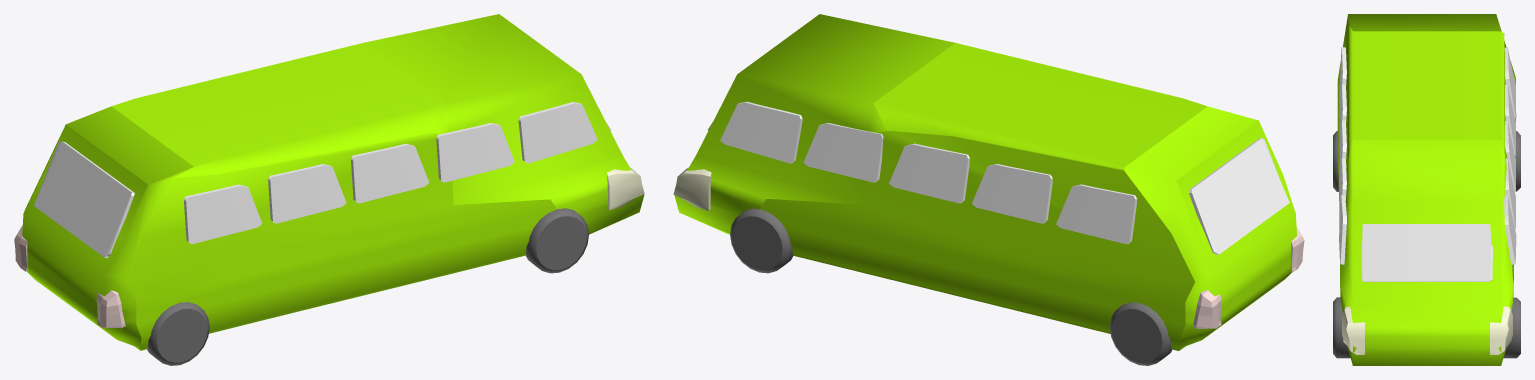
File: CarroVerde.fbx
3 renders of one model, left to right at view 1: azimuth 30°, elevation 25°; view 2: azimuth 150°, elevation 25°; view 3: azimuth 270°, elevation 25°, orthographic. The views are drawn at different scales.
Visible parts, largest first — view 1: pCube1, pCube10, pCube8, pCube13, pCube14, pCube12, pasted__pCube8, pCylinder1, pCylinder2, pCube11, pCube9; view 2: pCube1, pCube10, pasted__pasted__pCube12, pasted__pCube17, pasted__pCube15, pasted__pCube16, pasted__pCube12, pCylinder3, pCylinder4, pCube11, pCube9; view 3: pCube1, pCube6, pCube9, pCylinder1, pCylinder3, pasted__pasted__pCube12, pasted__pCube8, pasted__pCube17, pasted__pCube15, pasted__pCube16, pasted__pCube12, pCylinder2 (+5 smaller).
Part boxes in pixels (x1,y1,x2,y2): pCube1: (22, 14, 644, 350); pCube10: (34, 141, 134, 258); pCube8: (436, 123, 514, 182); pCube13: (268, 164, 346, 223); pCube14: (184, 184, 262, 244); pCube12: (351, 143, 429, 203); pasted__pCube8: (518, 102, 597, 163); pCylinder1: (526, 208, 588, 273); pCylinder2: (147, 302, 209, 365); pCube11: (14, 226, 125, 327); pCube9: (606, 167, 644, 210); pCube1: (674, 14, 1296, 350); pCube10: (1189, 138, 1289, 254); pasted__pasted__pCube12: (720, 101, 802, 163); pasted__pCube17: (1056, 184, 1137, 244); pasted__pCube15: (889, 143, 969, 203); pasted__pCube16: (972, 163, 1052, 223); pasted__pCube12: (803, 123, 883, 182); pCylinder3: (730, 208, 793, 273); pCylinder4: (1109, 302, 1172, 365); pCube11: (1193, 227, 1304, 328); pCube9: (673, 167, 711, 210); pCube1: (1337, 14, 1515, 365); pCube6: (1361, 224, 1492, 281); pCube9: (1342, 306, 1512, 354); pCylinder1: (1333, 297, 1350, 358); pCylinder3: (1503, 297, 1520, 358); pasted__pasted__pCube12: (1504, 195, 1516, 264); pasted__pCube8: (1339, 195, 1346, 264); pasted__pCube17: (1504, 47, 1515, 118); pasted__pCube15: (1505, 120, 1515, 191); pasted__pCube16: (1505, 84, 1515, 155); pasted__pCube12: (1505, 158, 1515, 228); pCylinder2: (1333, 131, 1338, 191).
Bounding box in the file's own units: 33.34 × 11.06 × 11.09.
